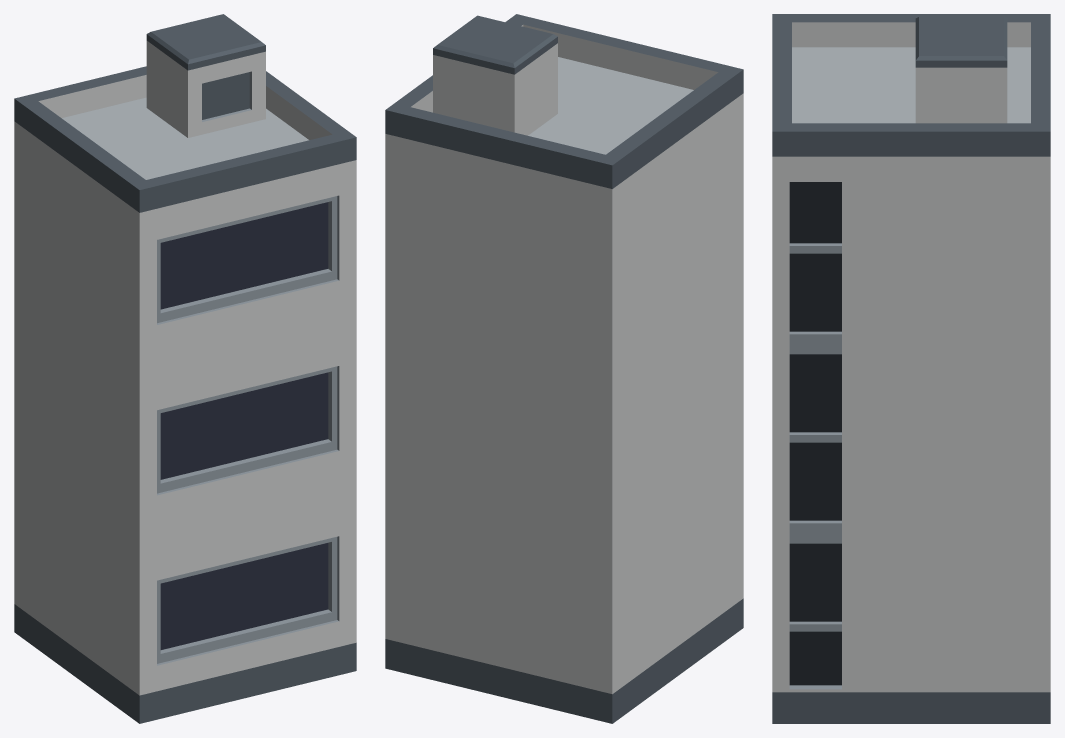
Rendered from stair-core.glb.
3 renders of one model, left to right at view 1: azimuth 30°, elevation 25°; view 2: azimuth 150°, elevation 25°; view 3: azimuth 270°, elevation 25°, orthographic. The views are drawn at different scales.
Parts seen in each view (by area): view 1: core-shell; view 2: core-shell; view 3: core-shell.
Part boxes in pixels (box(x1,y1,x2,y2)): core-shell: box(14, 14, 356, 723); core-shell: box(385, 14, 743, 723); core-shell: box(772, 14, 1050, 723).
Size of the model in its own units: 4 by 10.35 by 4.
